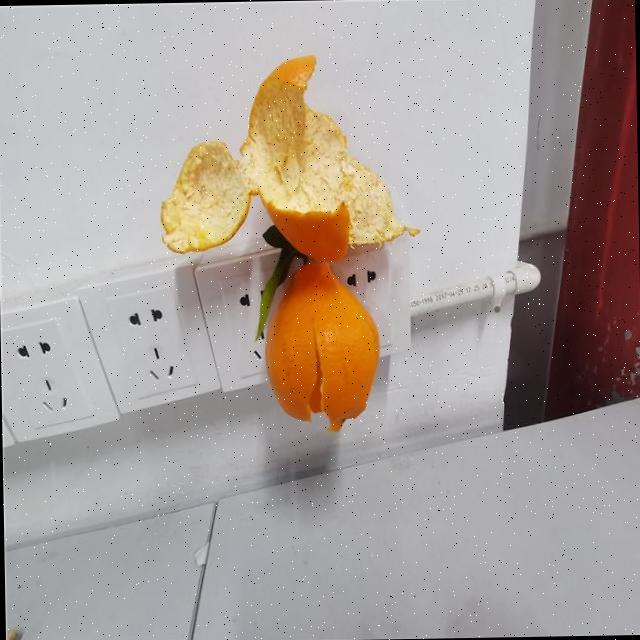orange-peel: (261, 258, 381, 432)
